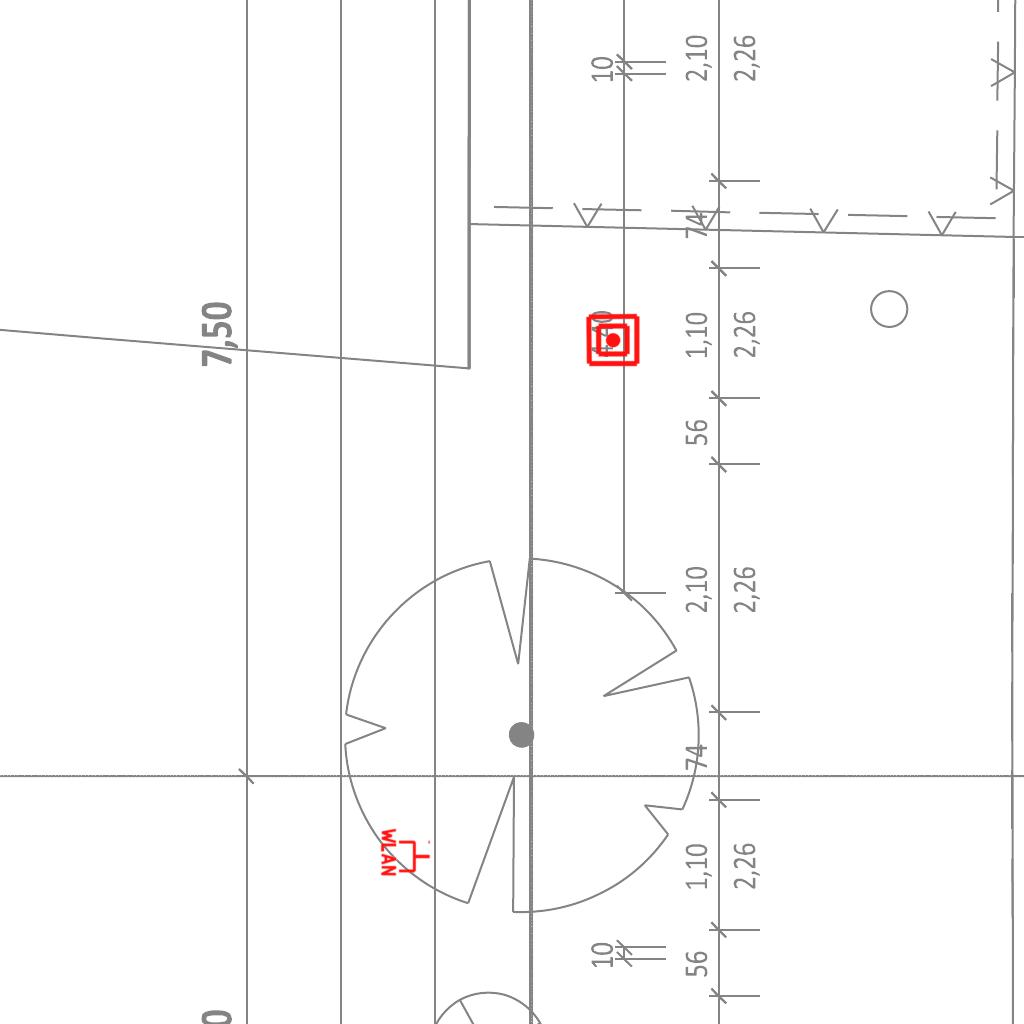NAM-Nichtautomatischer_Melder: (585, 312, 641, 368)
WLAN: (380, 826, 432, 878)
